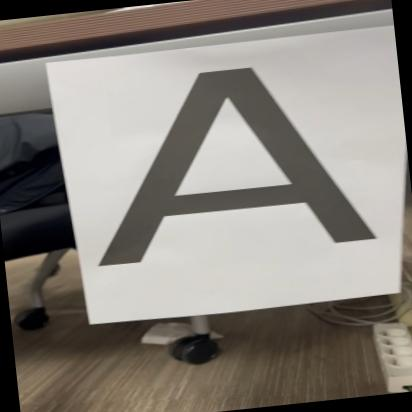seat: (66, 47, 378, 283)
